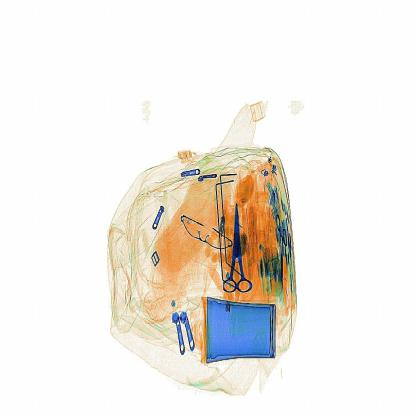gun: (218, 190, 257, 310)
